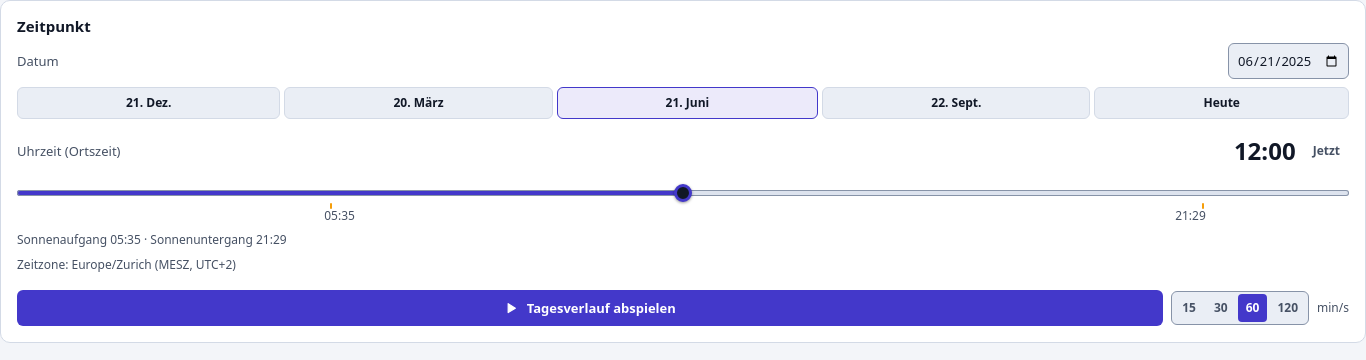
TimeControls › shows the clock without a live region (the slider value text carries the time)
The width and height of the screenshot is (1366, 360).
Expected: the text "12:00" is shown, [1234,139,1296,163]
Set the slider labelled "Uhrzeit (Ortszeit)" to "725" at (688, 193), box [17,175,1349,211]
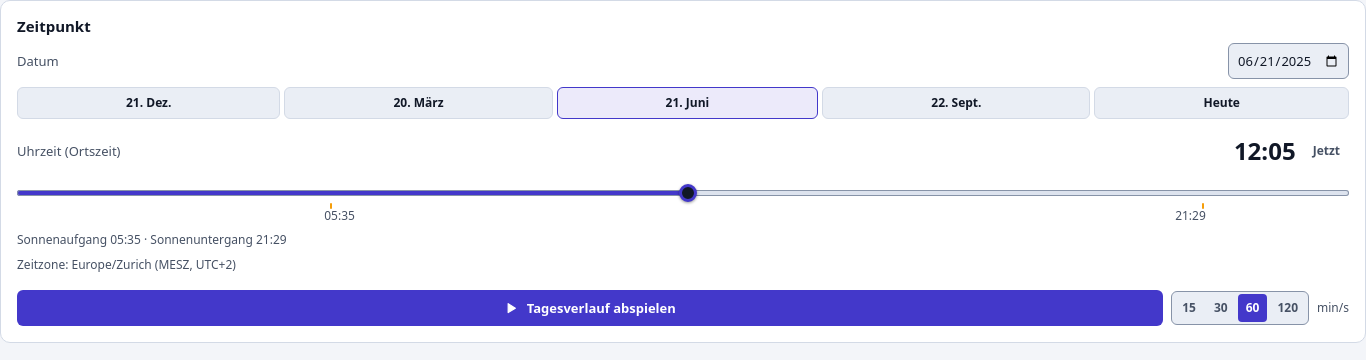
Now the text "12:05" is shown, box [1234,139,1296,163]
